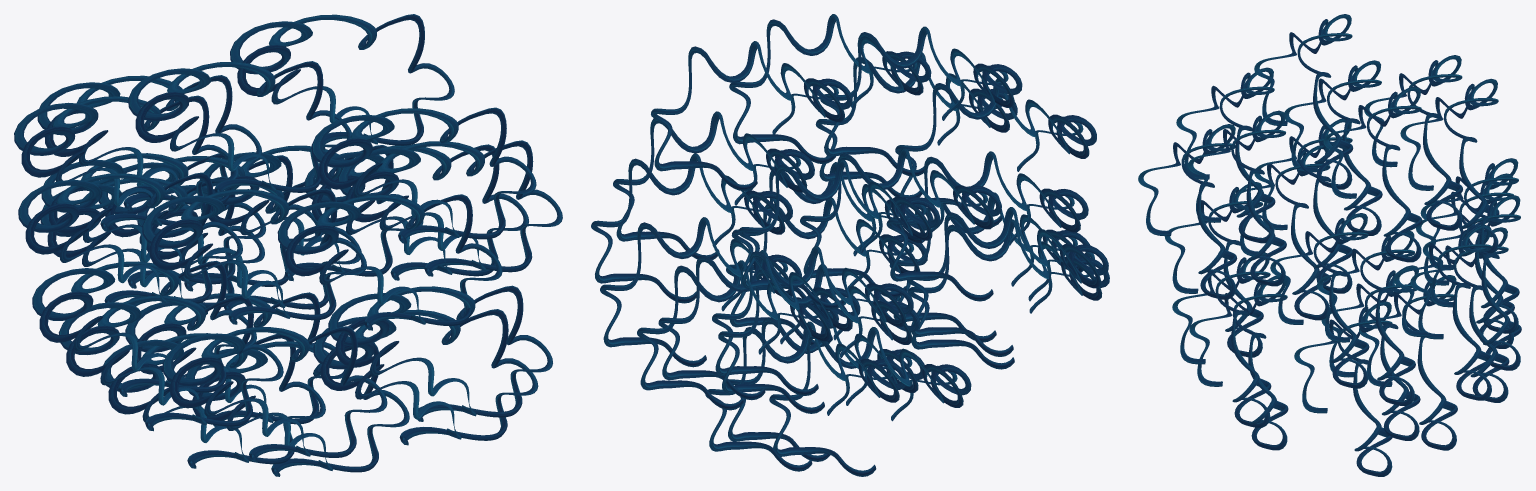
File: cromatina.glb
The picture shows the model from 3 angles, left to right: view 1: azimuth 30°, elevation 25°; view 2: azimuth 150°, elevation 25°; view 3: azimuth 270°, elevation 25°; orthographic projection. The views are drawn at different scales.
Parts seen in each view (by area): view 1: Object_48, Object_47; view 2: Object_47, Object_48; view 3: Object_48, Object_47.
Part boxes in pixels (<box>): Object_48: <box>15,15,561,476</box>; Object_47: <box>14,14,562,476</box>; Object_47: <box>591,14,1109,476</box>; Object_48: <box>591,14,1109,476</box>; Object_48: <box>1138,14,1521,476</box>; Object_47: <box>1138,14,1521,476</box>.
Bounding box in the file's own units: 0.9781 × 0.8236 × 0.7634.
Materials: 1 (1 with a texture image).
